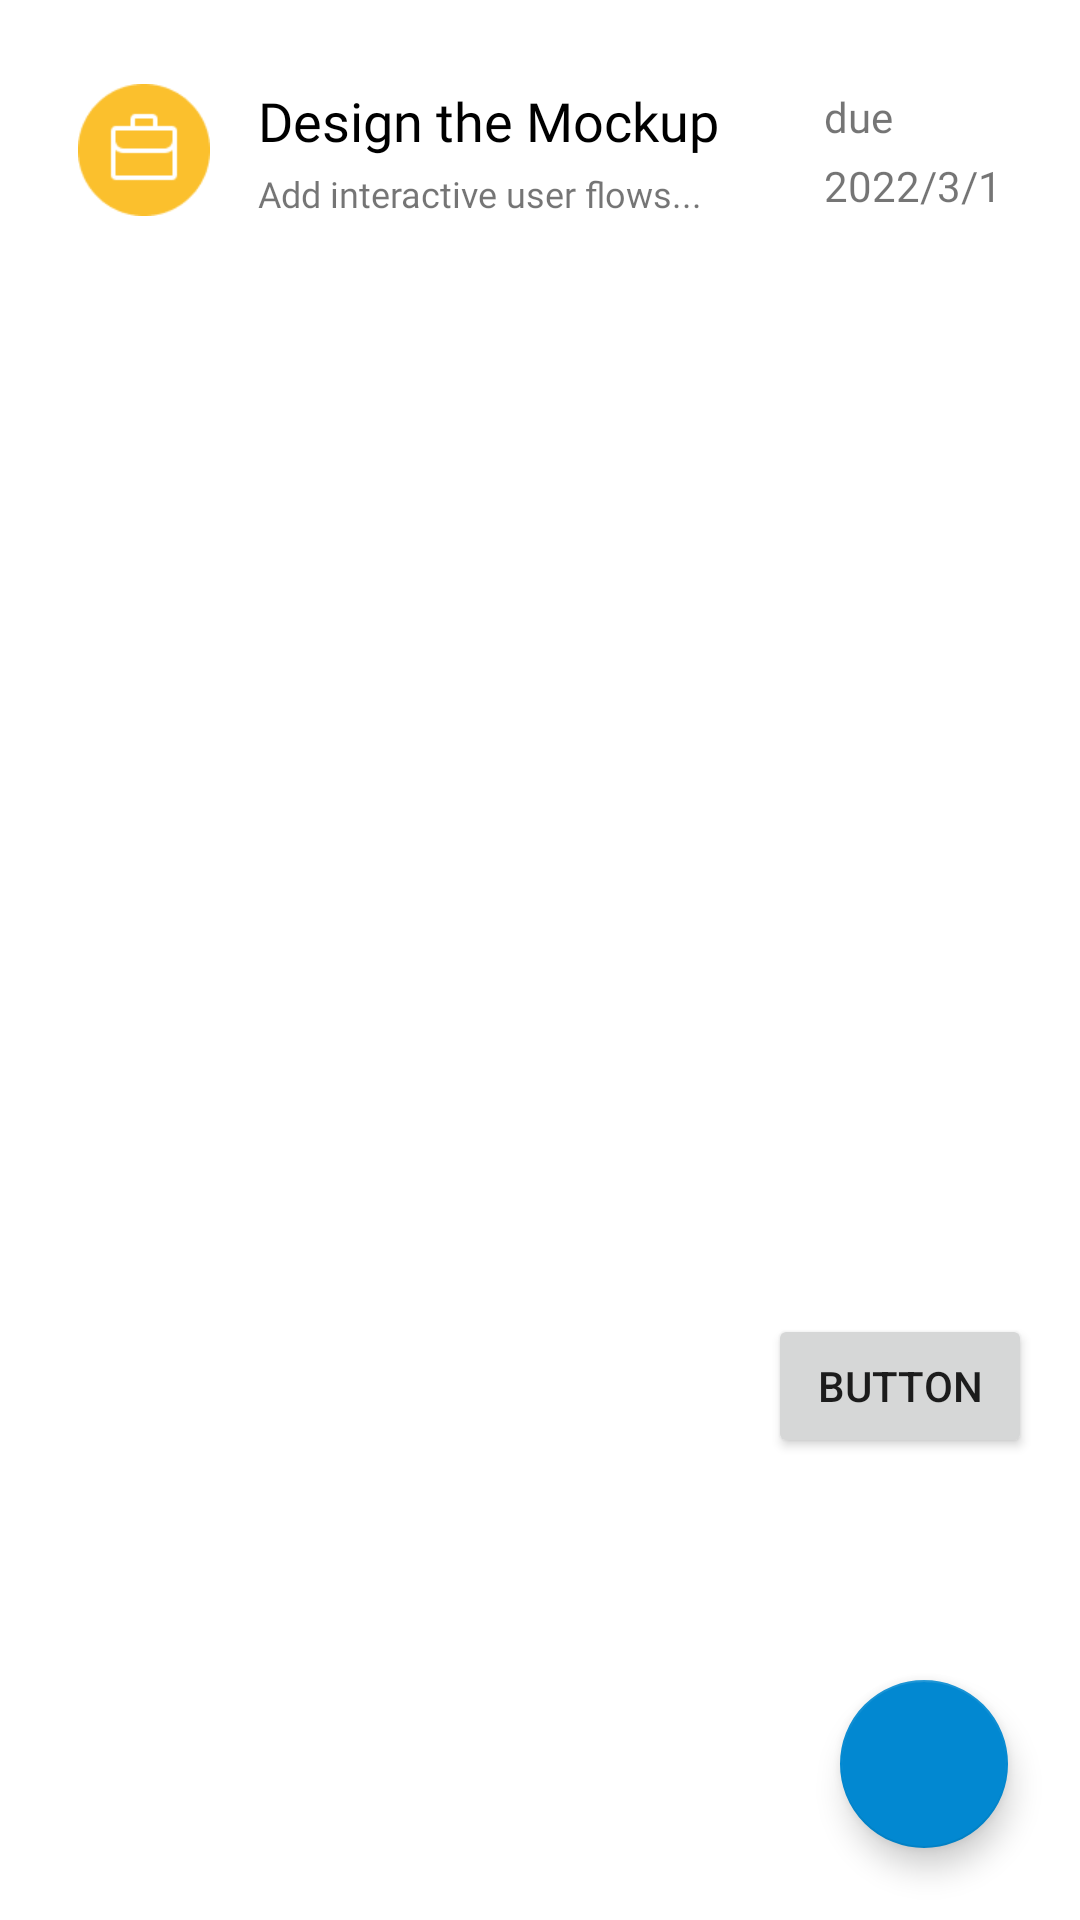

Where to tap for icons on this 1080px×1920px app screen, as (x=x, y=y):
work: (x=144, y=150)
